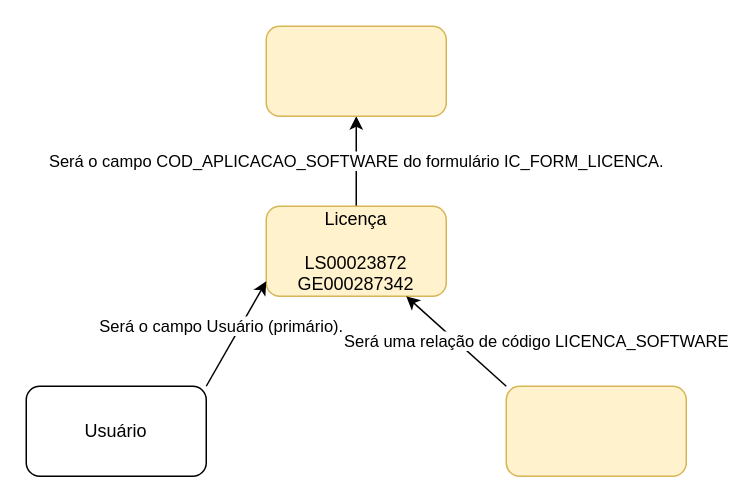
The diagram is 755 pixels wide and 503 high, and some of its shapes have lost their labels. Each missing label, with the centre of its shape:
"Aplicação 5W67 (Visio 2013) AUIY (Project 2016)" belongs at (x=355, y=70).
"Estação de Trabalho NO0002394782 MI00287342" belongs at (x=595, y=430).
